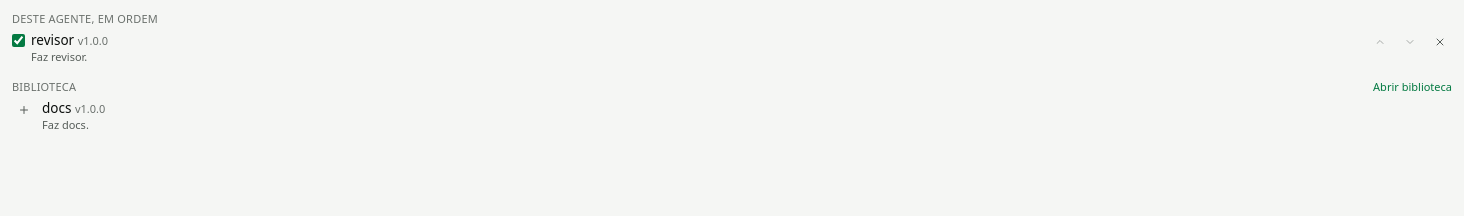
Test case: aba Skills › adicionar grava a lista inteira e pede reinício com o agente rodando
The width and height of the screenshot is (1464, 216).
Click the button named "Adicionar docs" at (24, 110), box [12,98,36,122]
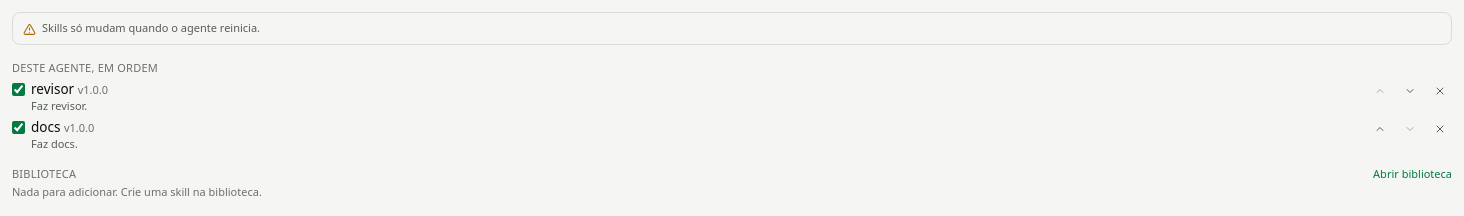
Result: the text "só mudam quando o agente reinicia" is shown at [42,20,260,35]
